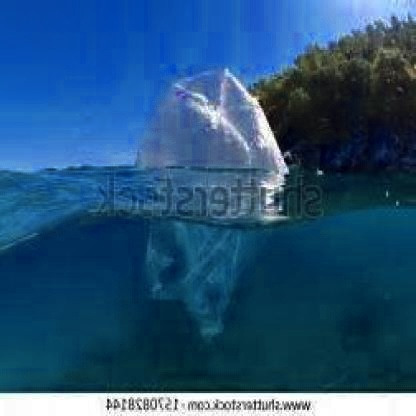pbag: (137, 65, 289, 343)
